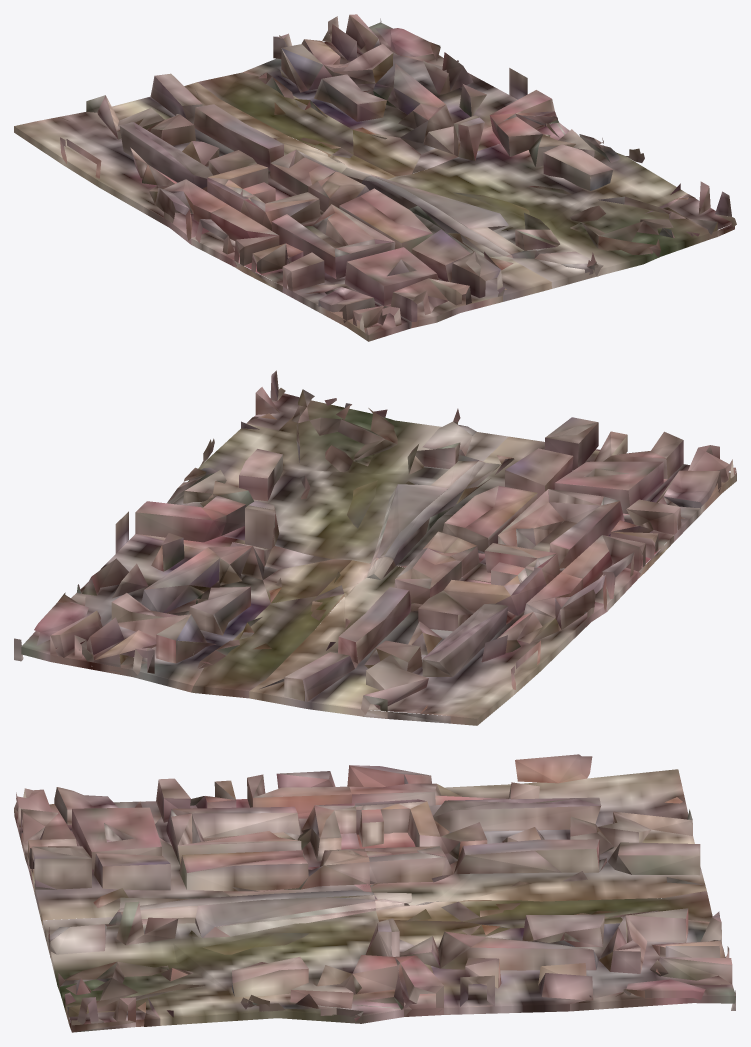
The picture shows the model from 3 angles, top to bottom: view 1: azimuth 30°, elevation 25°; view 2: azimuth 150°, elevation 25°; view 3: azimuth 270°, elevation 25°; orthographic projection. The views are drawn at different scales.
Visible parts, largest first — view 1: Mesh_0; view 2: Mesh_0; view 3: Mesh_0.
Boxes of the visible parts, x1,y1,x2,y2 form: Mesh_0: (14,14,736,341); Mesh_0: (14,370,736,725); Mesh_0: (14,754,735,1032).
Size of the model in its own units: 535 by 49.86 by 660.
Materials: 2 (2 with a texture image).
